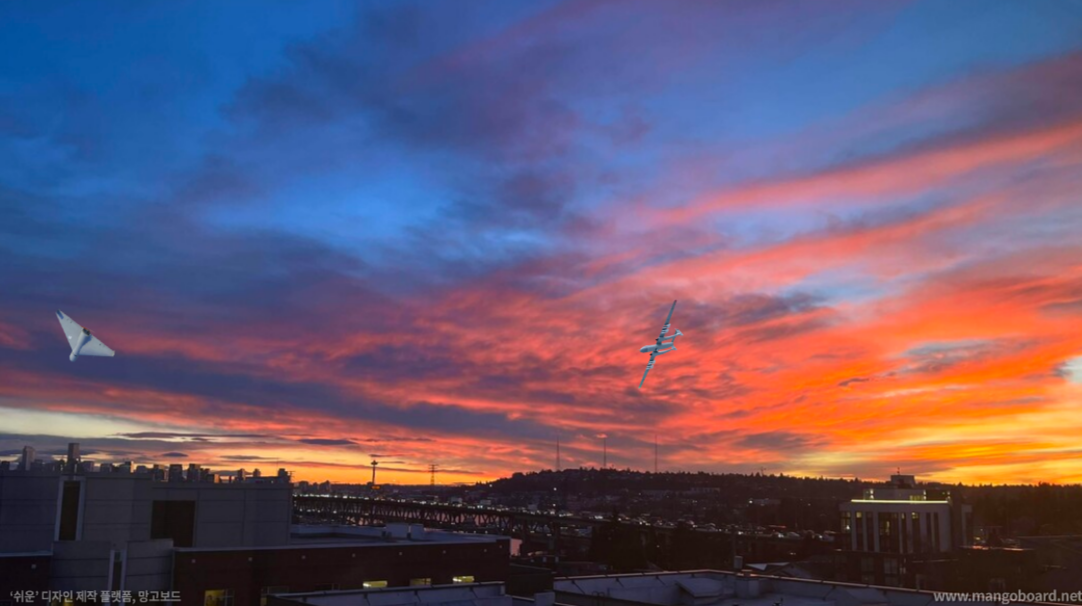military drone: (637, 298, 684, 389), (54, 309, 115, 362)
